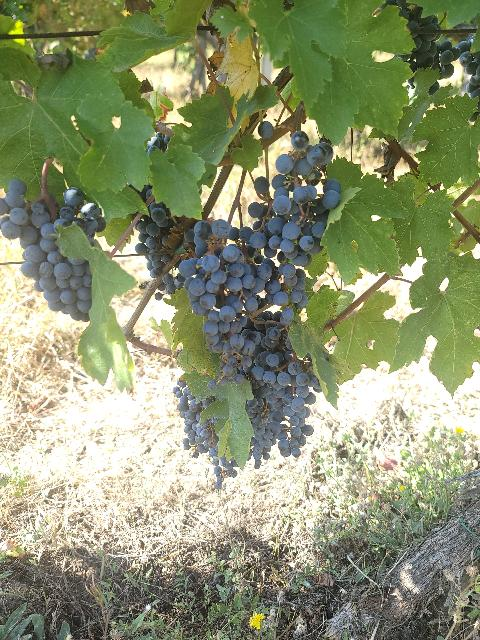grapes: (161, 220, 289, 356), (0, 179, 106, 321), (271, 130, 341, 266), (262, 361, 311, 455), (172, 379, 218, 458), (246, 394, 284, 466)
